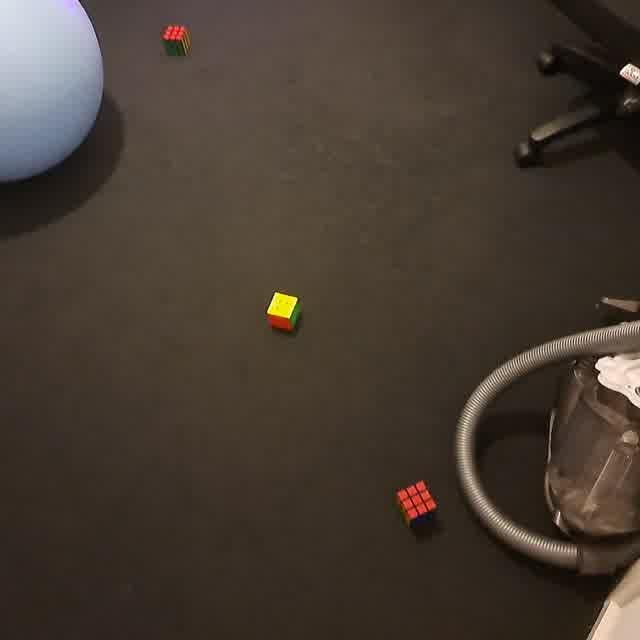rubix_cube: (391, 479, 440, 535), (263, 288, 304, 332), (159, 21, 195, 60)
